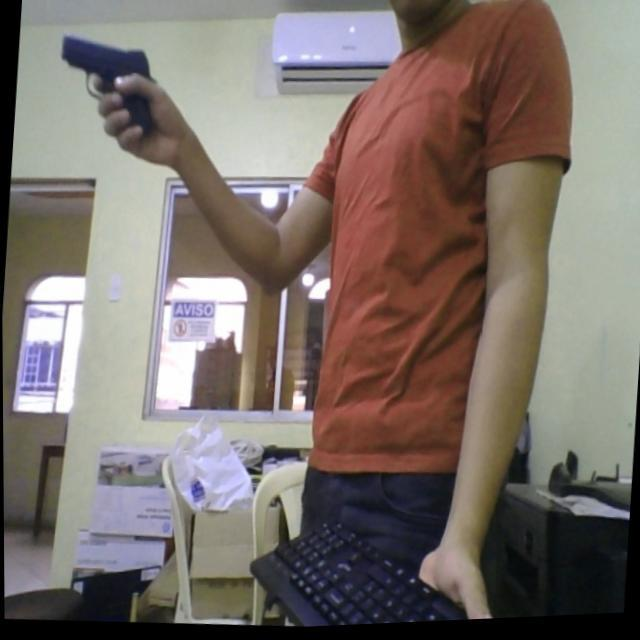weapon: (54, 27, 160, 142)
